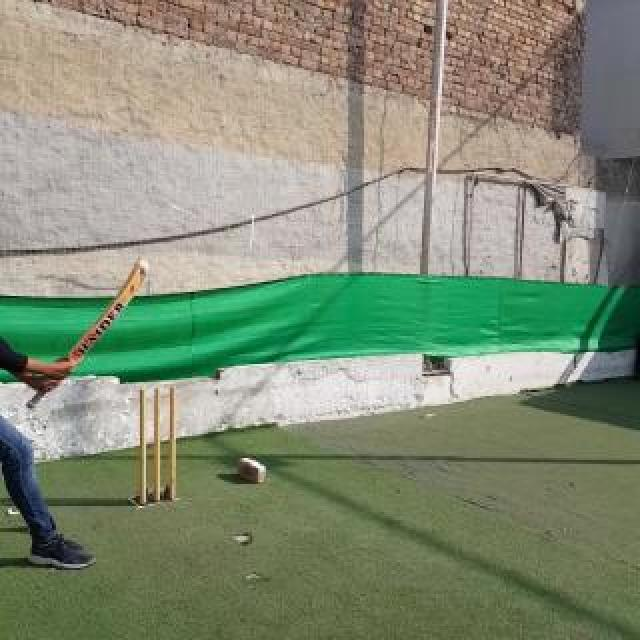bat: (26, 256, 150, 410)
